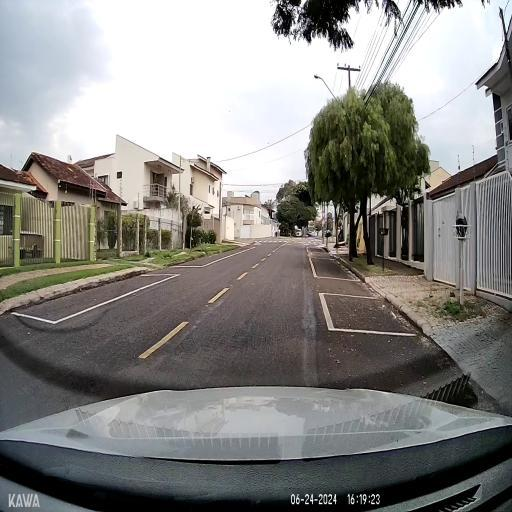R-2: (322, 212, 326, 218)
R-33: (322, 220, 325, 225)
